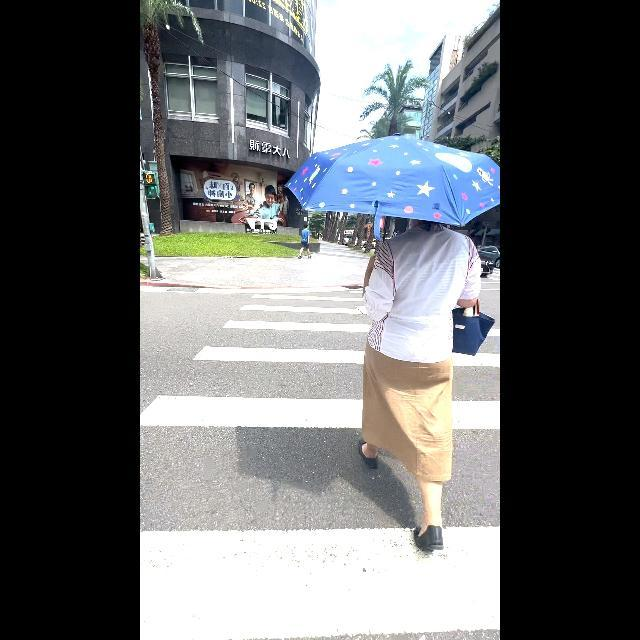sidewalk: (140, 276, 500, 640)
